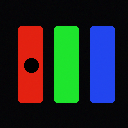2 circle: (24, 58, 38, 72)
